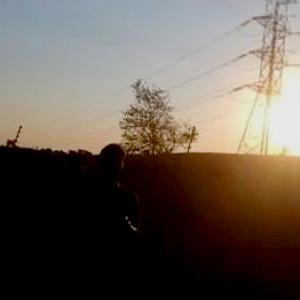follow: (68, 137, 143, 299)
